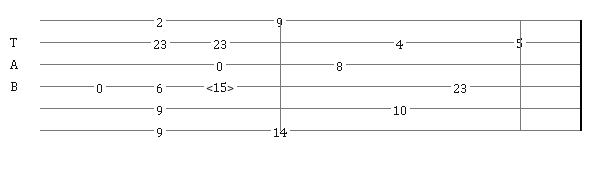0: (96, 80, 107, 93), (216, 58, 227, 71)
10: (393, 102, 411, 115)
14: (273, 124, 291, 137)
2: (156, 14, 167, 27)
23: (153, 36, 171, 49), (213, 36, 231, 49), (453, 80, 471, 93)
4: (396, 36, 407, 49)
5: (516, 35, 527, 49)
6: (156, 80, 167, 93)
8: (336, 58, 347, 71)
9: (156, 102, 167, 115), (156, 124, 167, 137), (276, 14, 287, 27)
harmonic: (206, 79, 238, 93)
